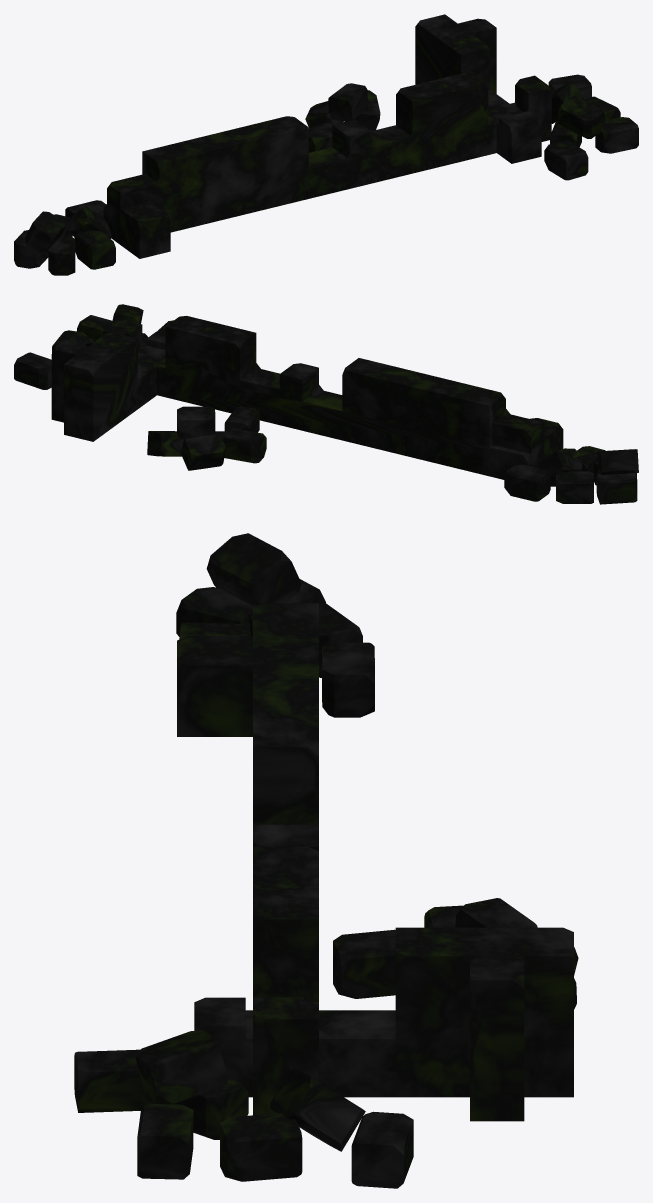
The model's file is tembok 2.fbx.
3 views of the same model, one above another, from view 1: azimuth 30°, elevation 25°; view 2: azimuth 150°, elevation 25°; view 3: azimuth 270°, elevation 25° (orthographic). The views are drawn at different scales.
Parts seen in each view (by area): view 1: Tembok2; view 2: Tembok2; view 3: Tembok2.
Boxes of the visible parts, x1,y1,x2,y2 form: Tembok2: (14,14,638,275); Tembok2: (14,304,638,504); Tembok2: (74,533,578,1188).
Size of the model in its own units: 9090 by 1386 by 3365.
